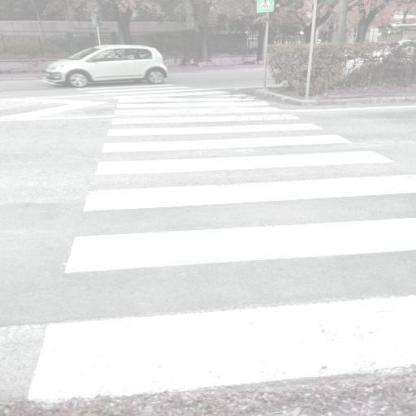crosswalk: (82, 132, 406, 180)
